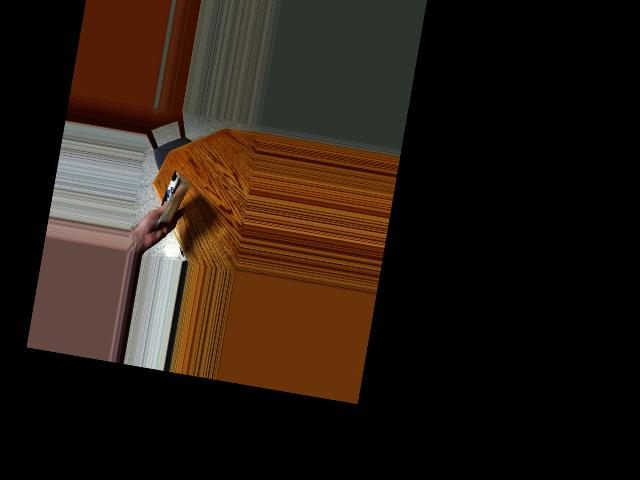cheese: (145, 169, 197, 227)
